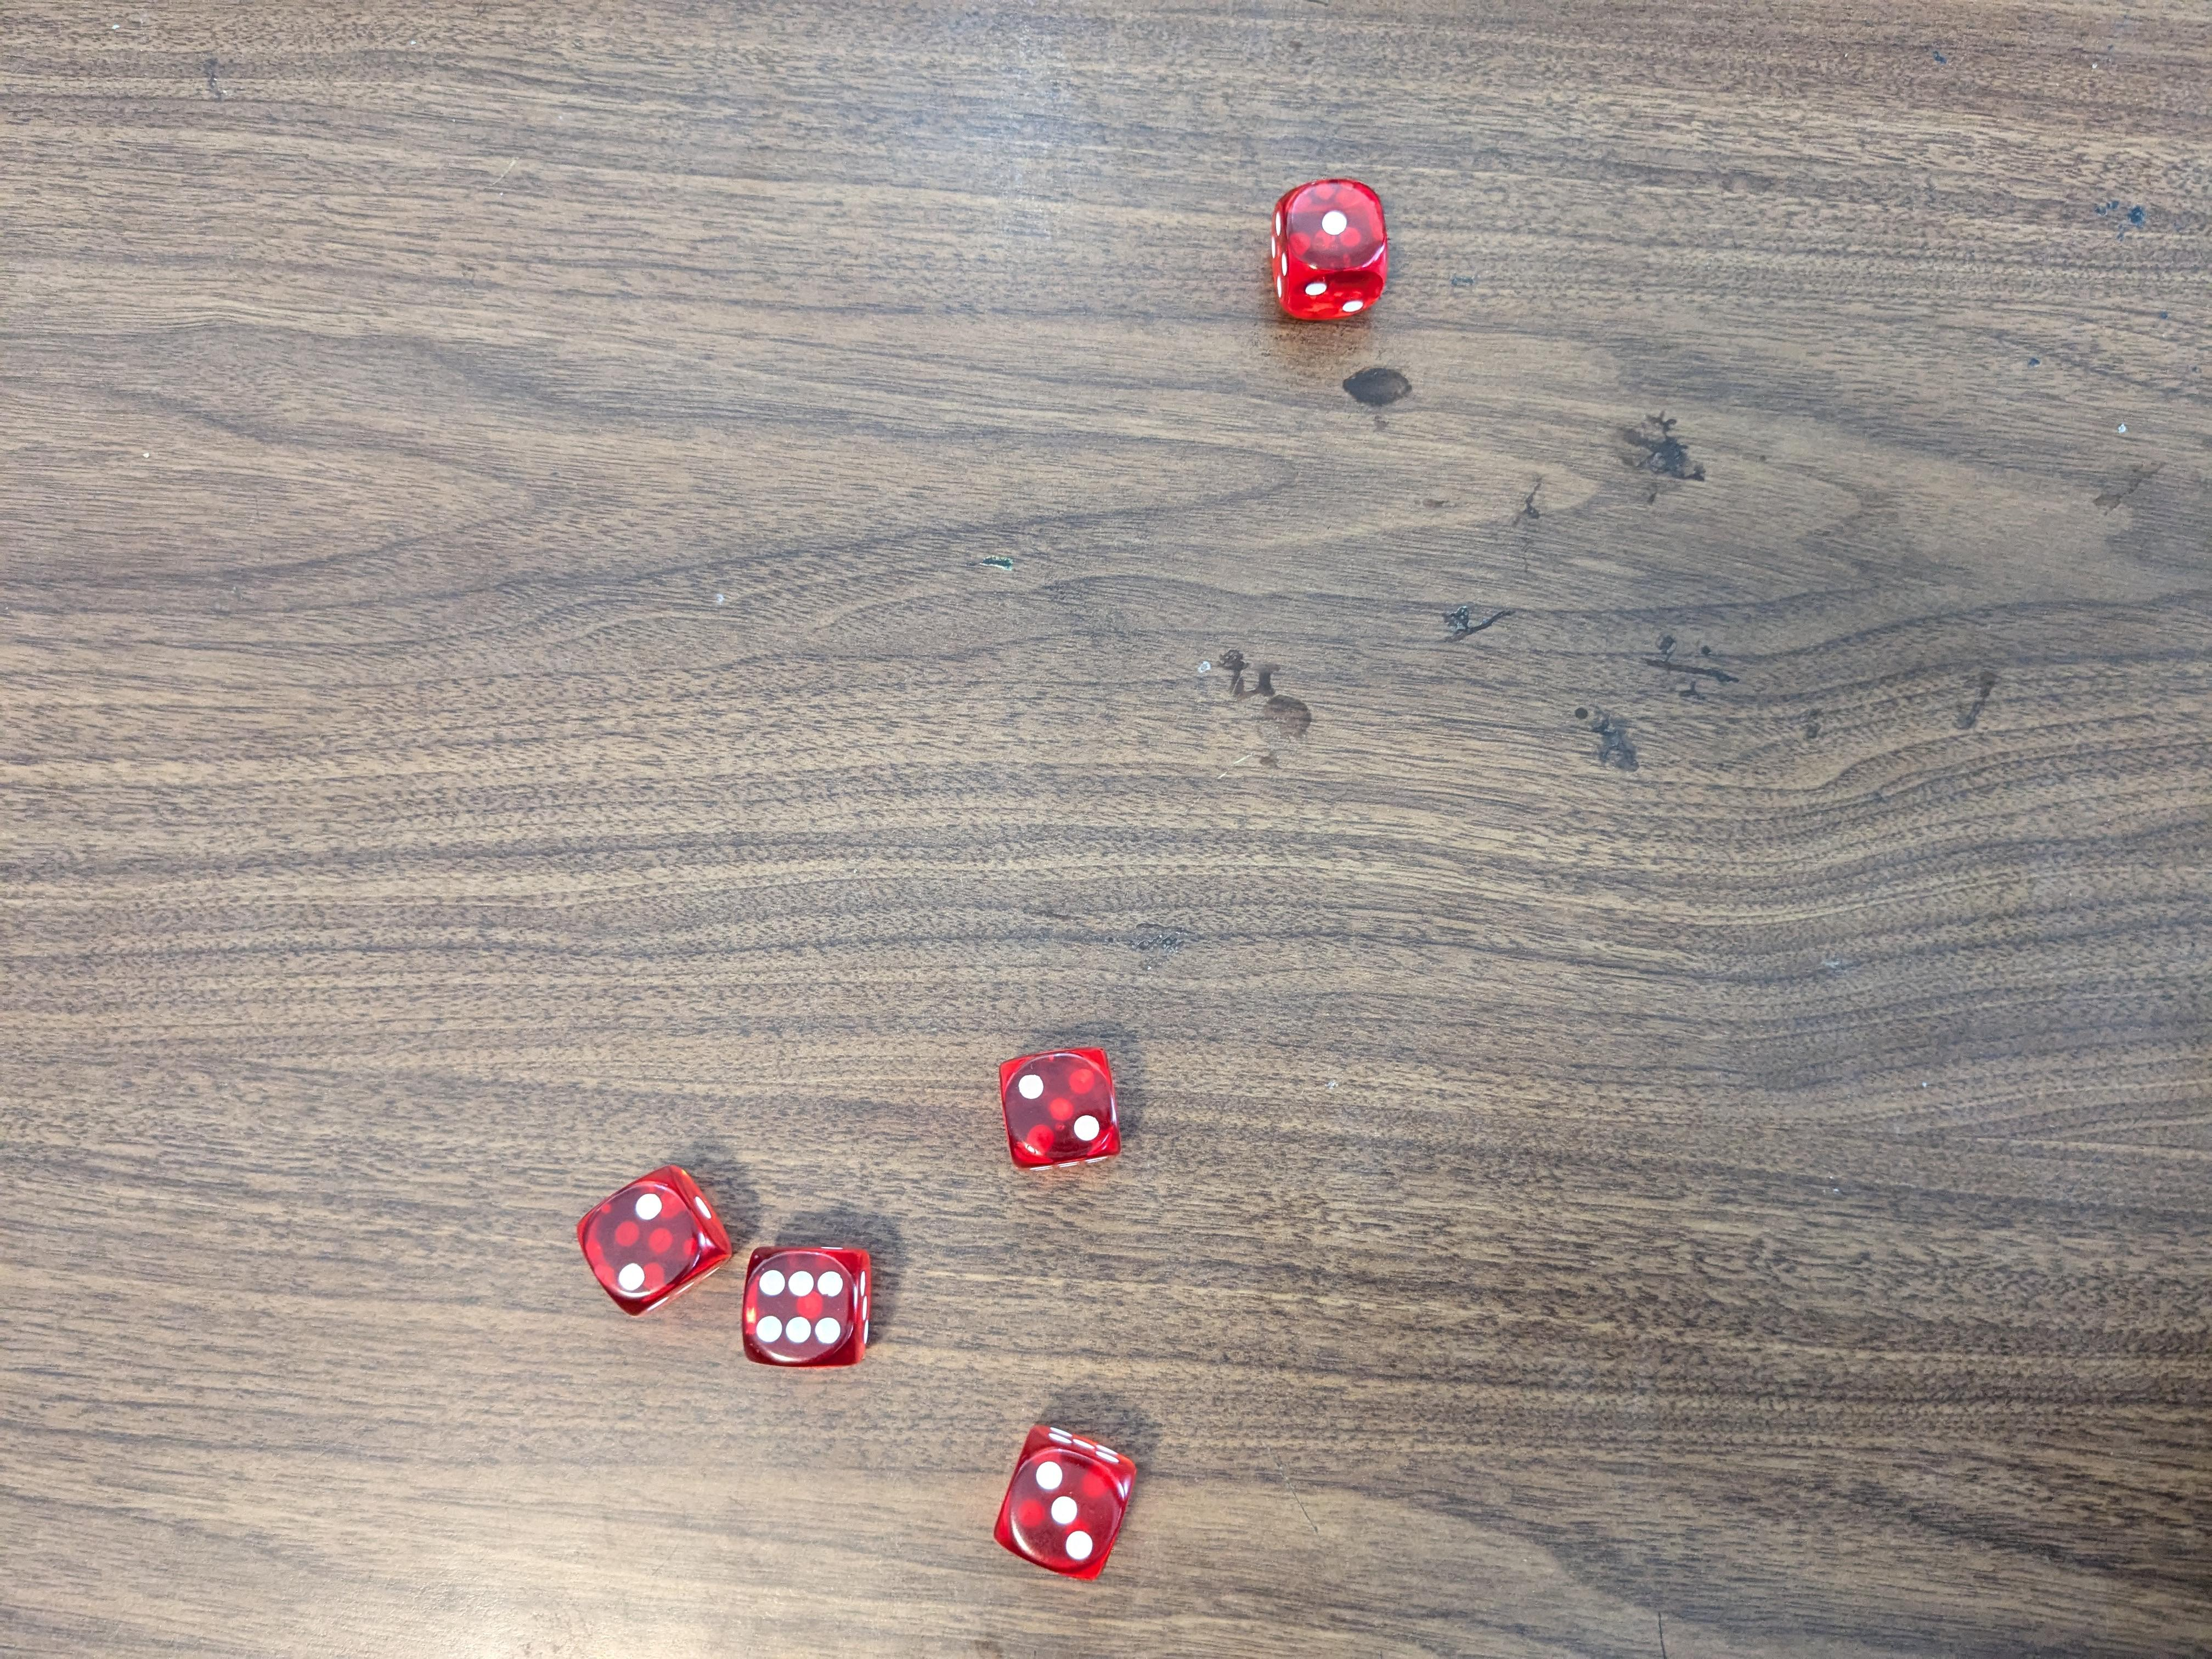one: (1270, 183, 1393, 321)
six: (747, 1243, 876, 1370)
three: (989, 1422, 1132, 1581)
two: (578, 1161, 730, 1312), (998, 1049, 1132, 1180)
